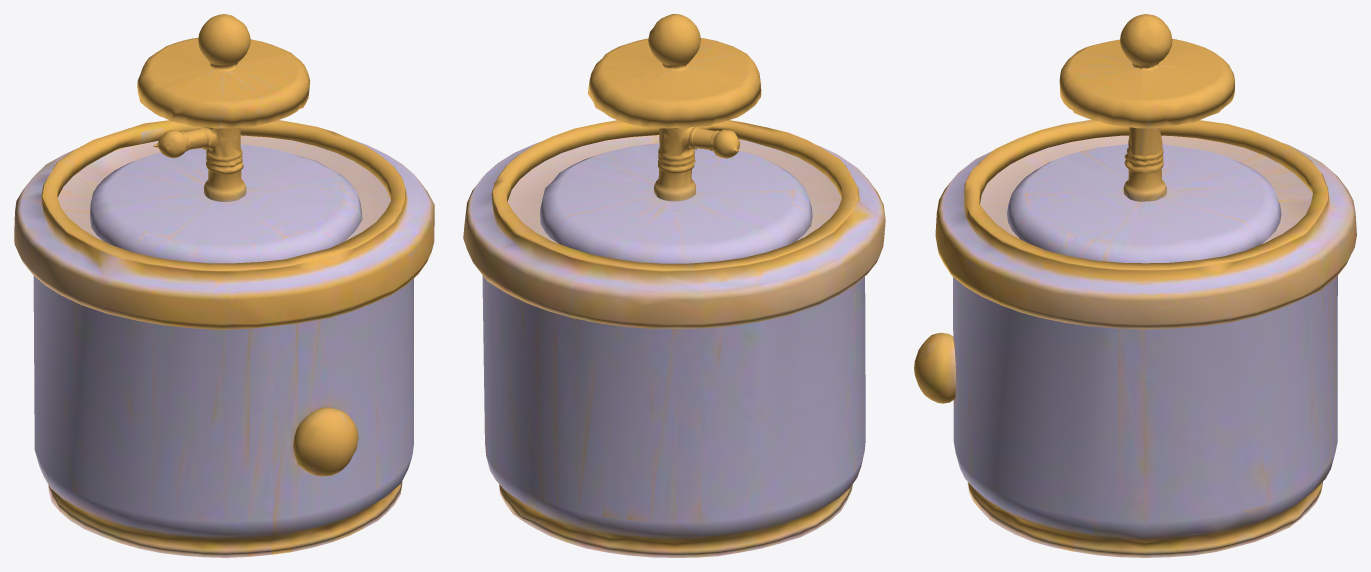
Rendered from p_musicbox.glb.
The picture shows the model from 3 angles, left to right: view 1: azimuth 30°, elevation 25°; view 2: azimuth 150°, elevation 25°; view 3: azimuth 270°, elevation 25°; orthographic projection.
Bounding box in the file's own units: 0.7764 × 0.9512 × 0.8164.
1 material, 1 textured.
